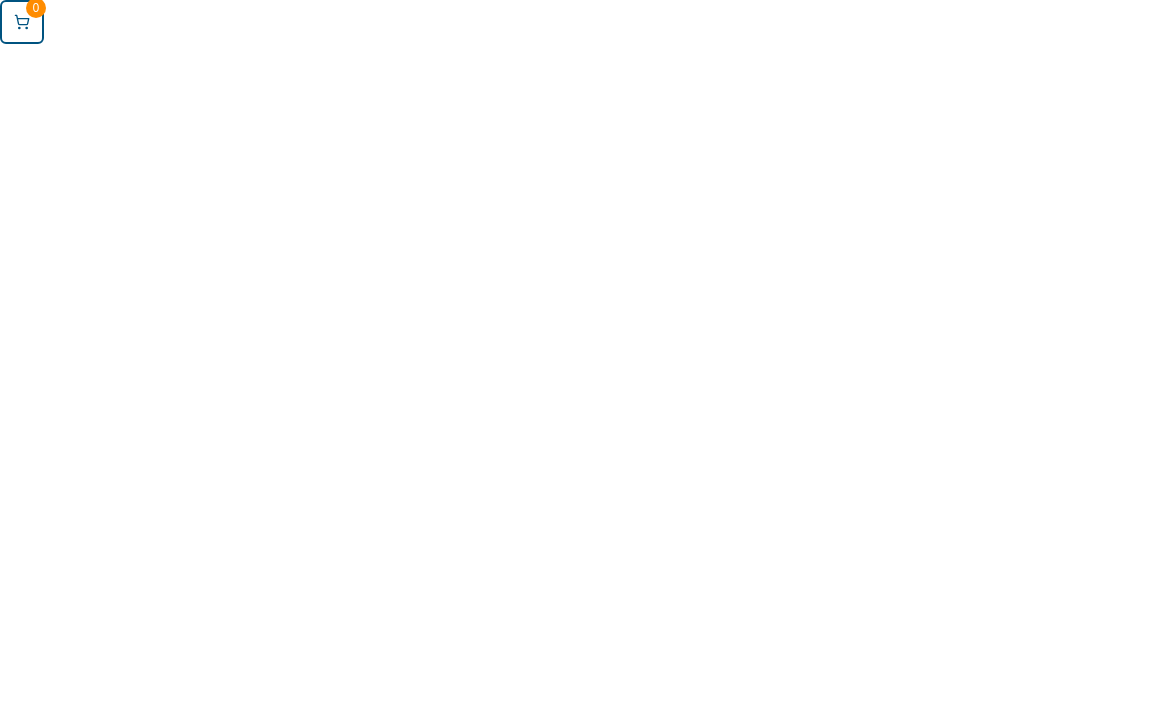
bleibt beim Laden der Artikel ohne Endlosschleife bedienbar
Click the button named "Mietanfrage-Warenkorb". click: (22, 22)
box: [0,0,44,44]
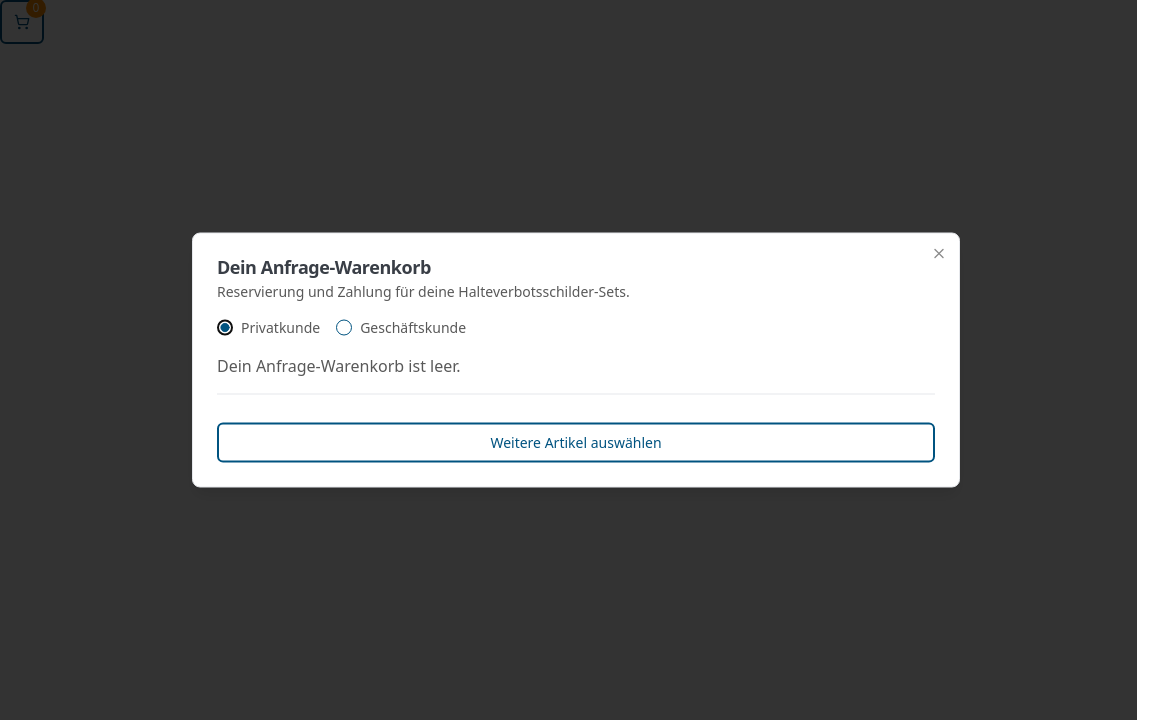
Expected: the dialog is shown, [192,232,960,488]
